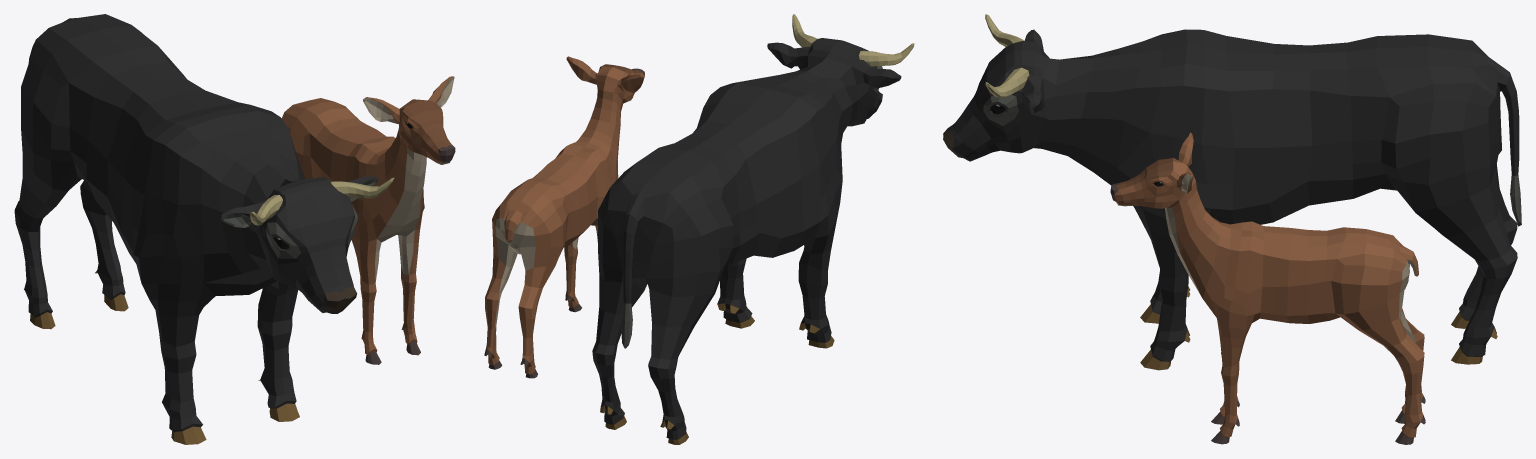
File: Animals.fbx
3 renders of one model, left to right at view 1: azimuth 30°, elevation 25°; view 2: azimuth 150°, elevation 25°; view 3: azimuth 270°, elevation 25°, orthographic. The views are drawn at different scales.
Visible parts, largest first — view 1: Cow, Deer; view 2: Cow, Deer; view 3: Cow, Deer.
Part boxes in pixels (box(x1,y1,x2,y2)): Cow: box(14, 14, 394, 444); Deer: box(281, 76, 455, 364); Cow: box(592, 14, 914, 444); Deer: box(484, 56, 644, 378); Cow: box(943, 14, 1521, 370); Deer: box(1110, 132, 1425, 444).
Bounding box in the file's own units: 125 × 115 × 202.
